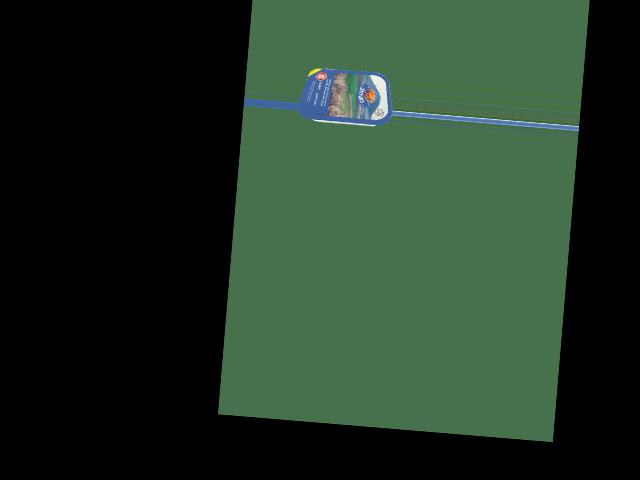cheese: (306, 64, 388, 133)
